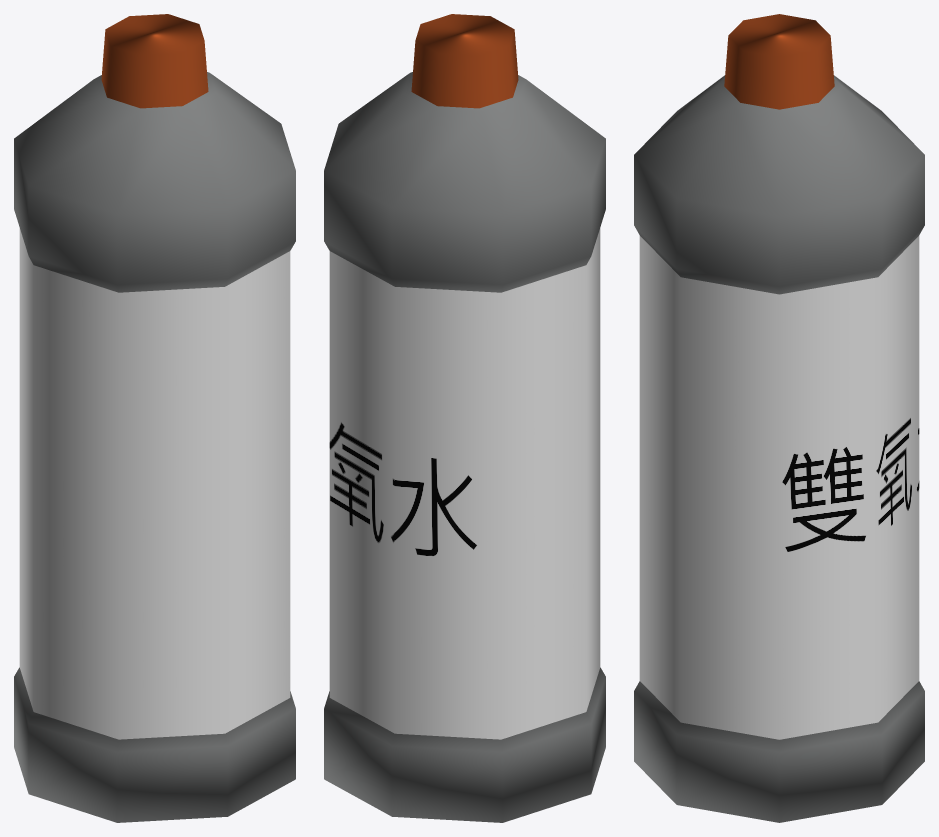
The model's file is HHOO2.fbx.
3 views of the same model, side by side, from view 1: azimuth 30°, elevation 25°; view 2: azimuth 150°, elevation 25°; view 3: azimuth 270°, elevation 25° (orthographic).
Parts seen in each view (by area): view 1: polySurface6, HHOO4; view 2: polySurface6, HHOO4; view 3: polySurface6, HHOO4.
Boxes of the visible parts, x1,y1,x2,y2 form: polySurface6: (14,72,295,822); HHOO4: (101,14,208,108); polySurface6: (324,72,605,822); HHOO4: (411,14,518,108); polySurface6: (634,75,924,822); HHOO4: (724,14,834,109).
Size of the model in its own units: 14.98 by 41.25 by 14.98.
4 materials, 1 textured.
